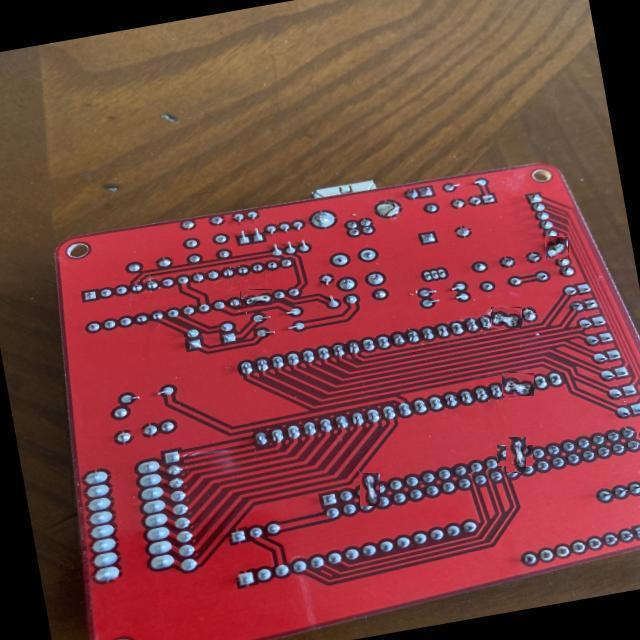damged: (501, 441, 530, 470), (502, 372, 534, 397), (357, 476, 384, 502), (491, 307, 522, 329), (546, 235, 569, 259), (240, 289, 272, 306)
